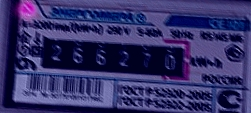0: (163, 50, 176, 68)
2: (48, 40, 62, 59), (117, 46, 129, 65)
6: (71, 43, 84, 62), (94, 46, 107, 64)
7: (140, 48, 152, 67)
screen: (30, 24, 196, 85)
